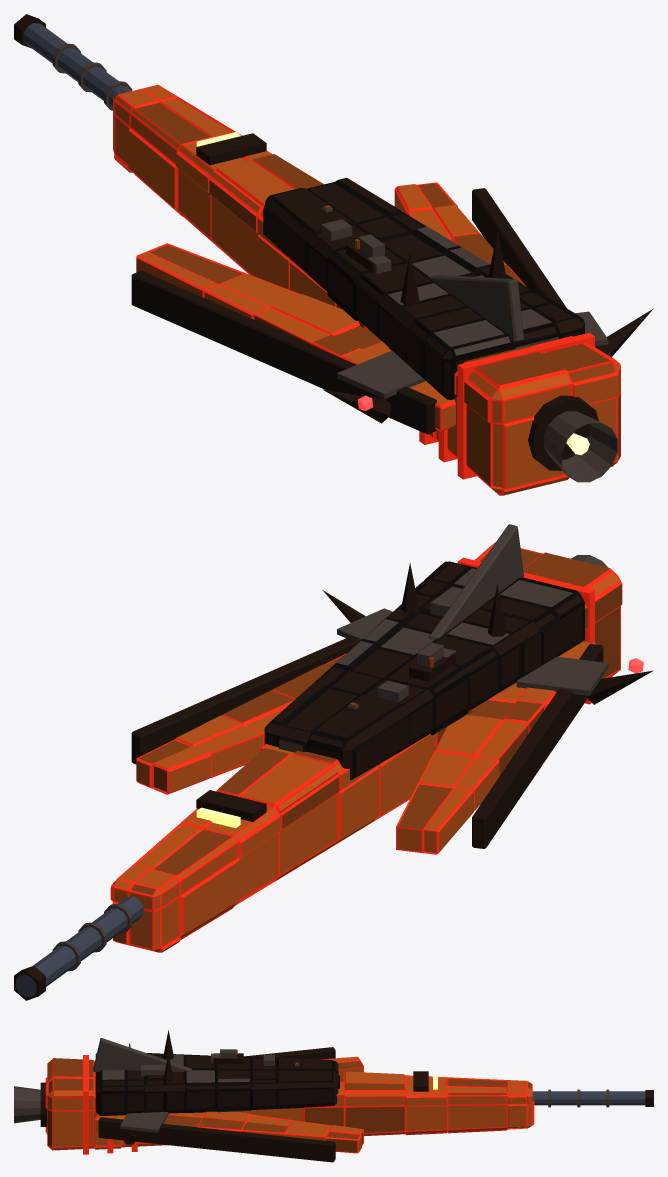
File: sniper.glb
The picture shows the model from 3 angles, top to bottom: view 1: azimuth 30°, elevation 25°; view 2: azimuth 150°, elevation 25°; view 3: azimuth 270°, elevation 25°; orthographic projection. The views are drawn at different scales.
Visible parts, largest first — view 1: sniper_mesh; view 2: sniper_mesh; view 3: sniper_mesh.
Boxes of the visible parts, <box> form: sniper_mesh: <box>14,14,653,495</box>; sniper_mesh: <box>14,524,653,1000</box>; sniper_mesh: <box>14,1030,653,1162</box>.
Bounding box in the file's own units: 4.55 × 2.1 × 12.53.
